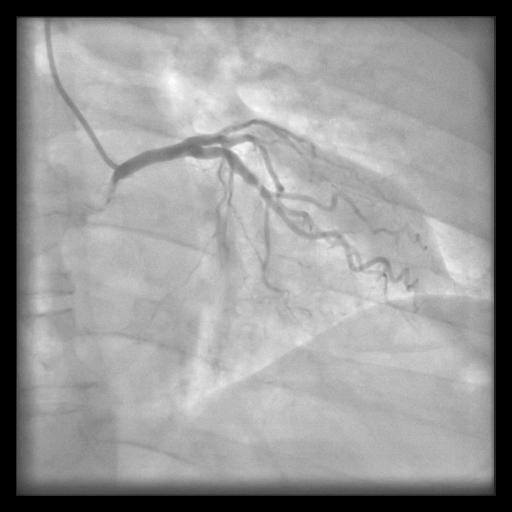Stenosis: (255, 174, 264, 197)
